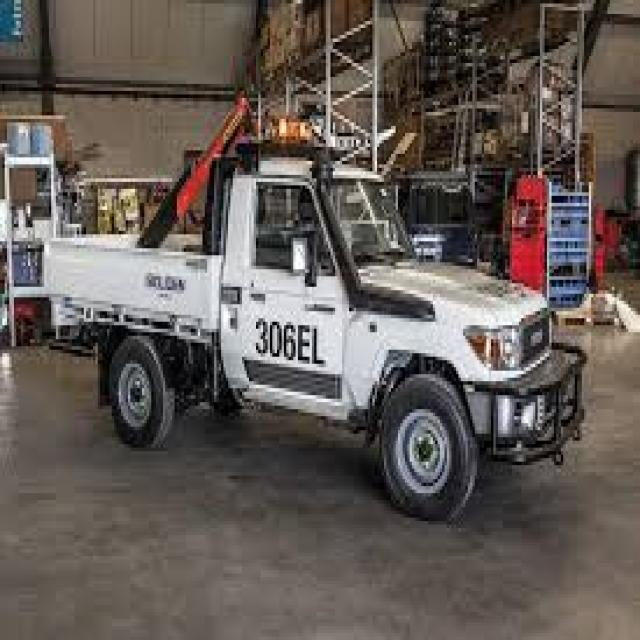light_vehicle: (42, 105, 624, 552)
